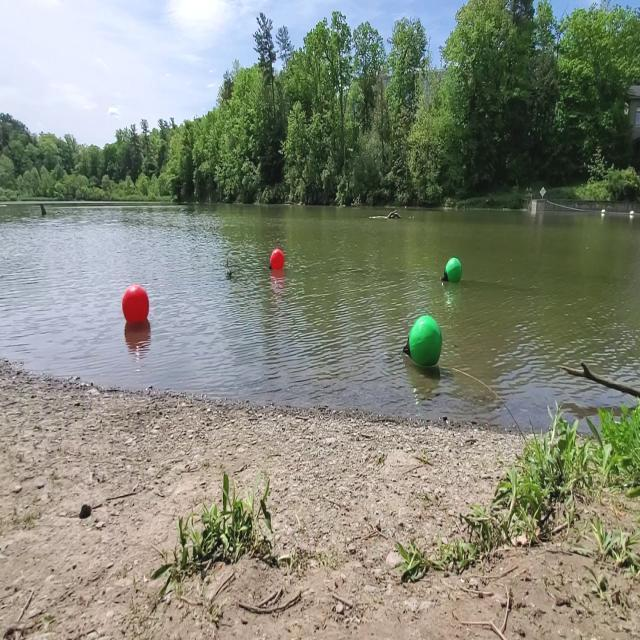buoy: (404, 315, 441, 367), (124, 285, 148, 323), (443, 258, 462, 284), (270, 250, 284, 270)
